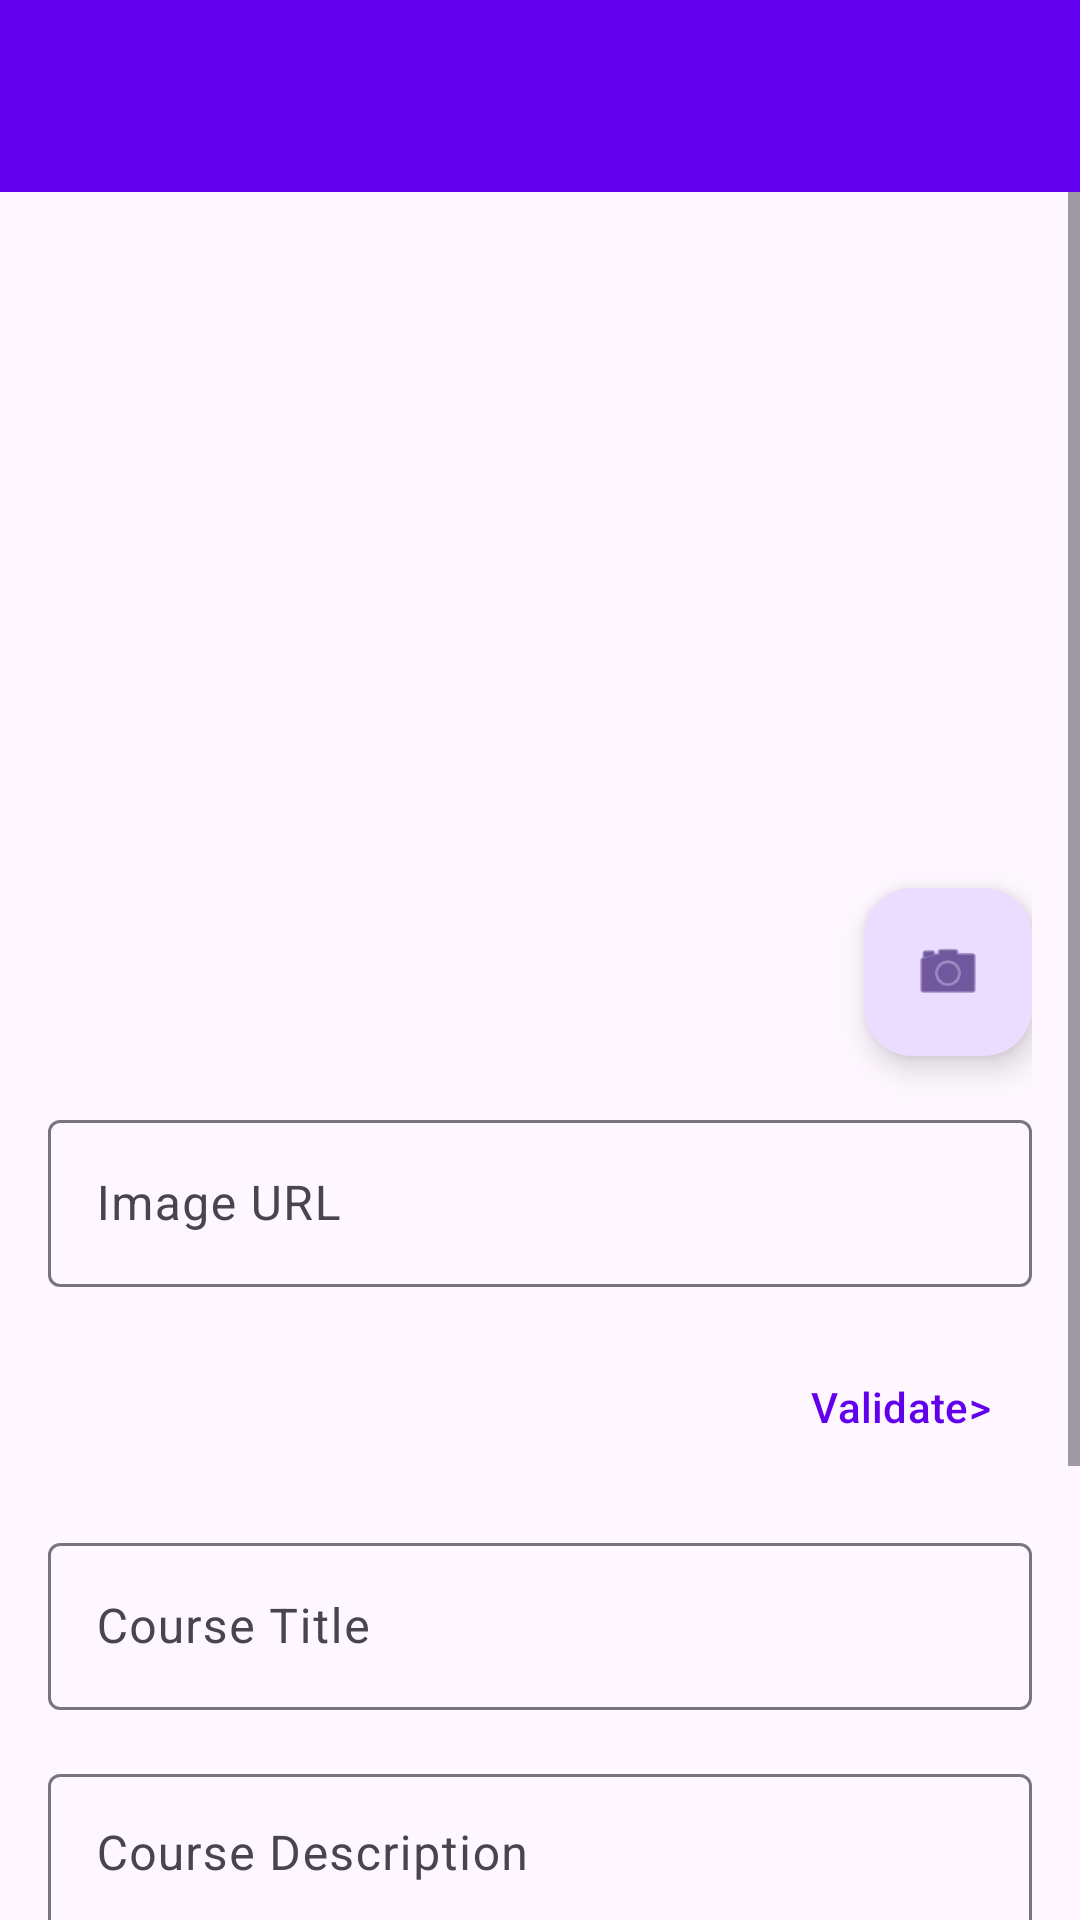

Locate icon controls on the screen. Image size 1080w x 1920h, boxes as (x1, y1, x2, y2).
Select Image: (864, 888, 1032, 1056)
